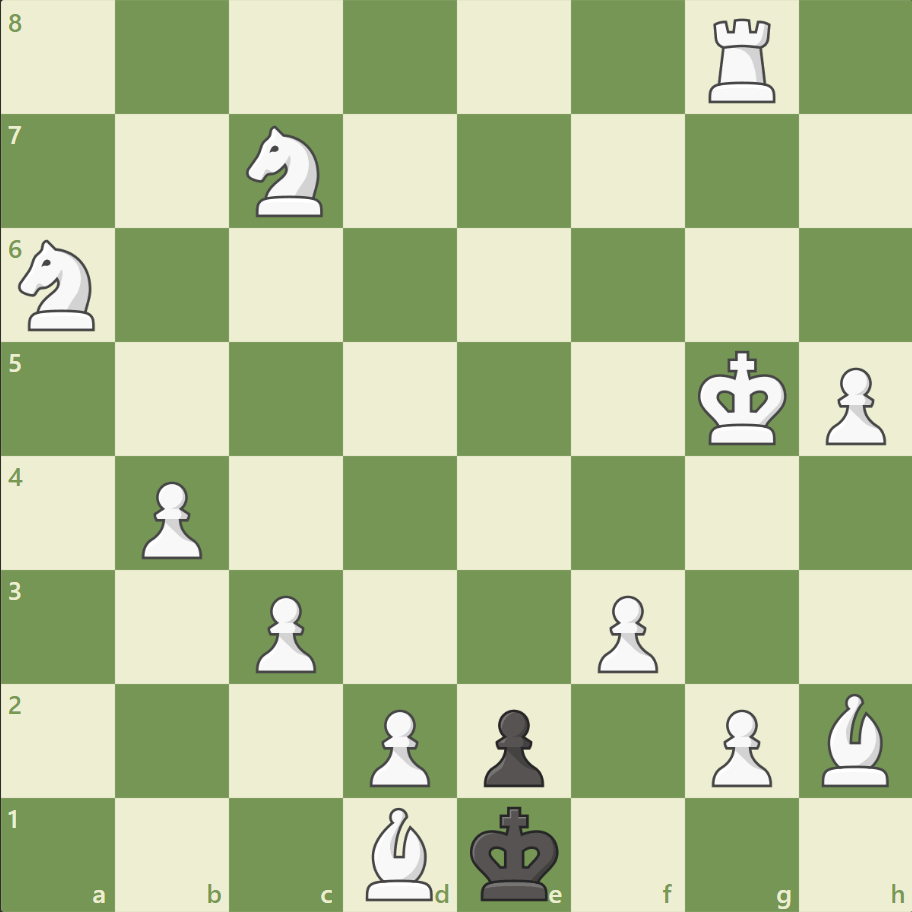B: (812, 687, 896, 790), (358, 801, 442, 904)
K: (692, 344, 792, 452)
N: (11, 234, 108, 337), (238, 121, 335, 223)
P: (133, 473, 208, 564), (247, 586, 322, 677), (701, 700, 776, 791), (815, 359, 889, 450), (588, 586, 662, 677), (361, 700, 435, 791)
R: (700, 12, 783, 109)
k: (465, 798, 565, 906)
p: (474, 700, 549, 791)
